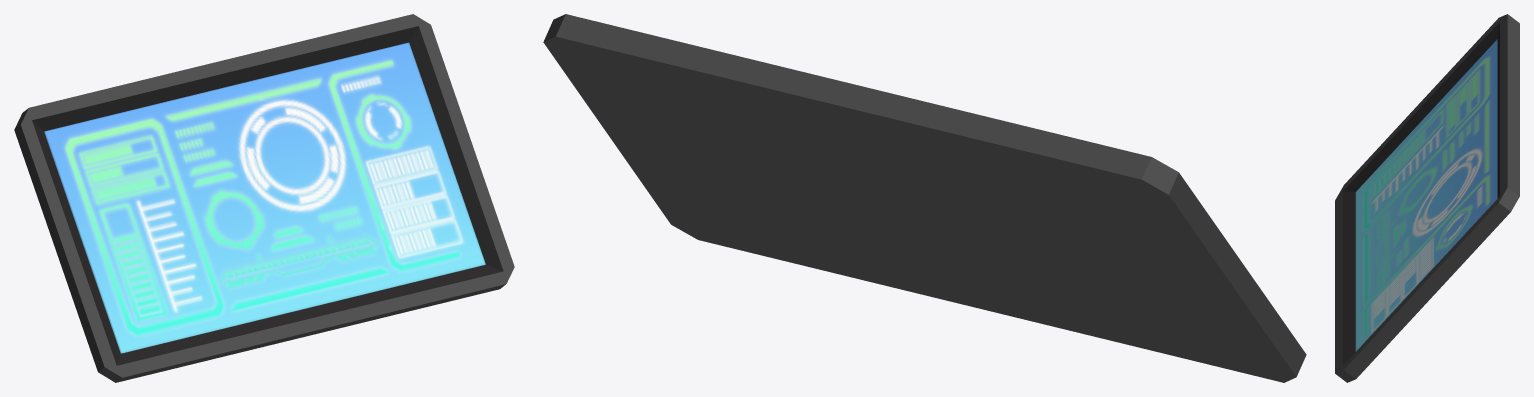
Rendered from Terminal_009_monitor_003.fbx.
The picture shows the model from 3 angles, left to right: view 1: azimuth 30°, elevation 25°; view 2: azimuth 150°, elevation 25°; view 3: azimuth 270°, elevation 25°; orthographic projection. The views are drawn at different scales.
Visible parts, largest first — view 1: Terminal_009_monitor_003; view 2: Terminal_009_monitor_003; view 3: Terminal_009_monitor_003.
Part boxes in pixels (x1=…): Terminal_009_monitor_003: x1=14, y1=14, x2=514, y2=382; Terminal_009_monitor_003: x1=543, y1=14, x2=1306, y2=382; Terminal_009_monitor_003: x1=1335, y1=14, x2=1519, y2=382.
Size of the model in its own units: 84.84 by 35.81 by 41.84.
